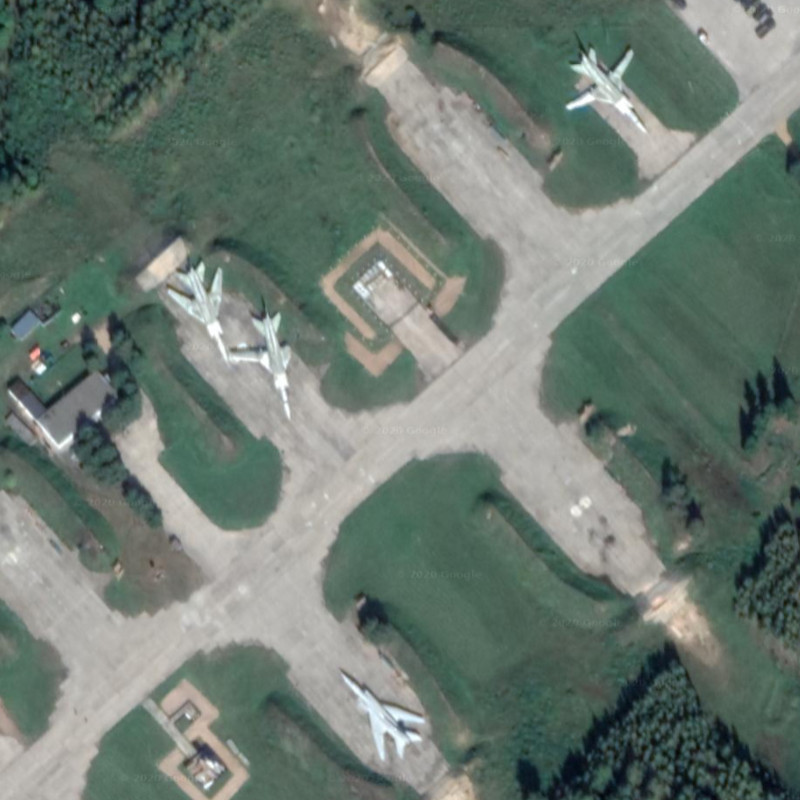A12: (327, 656, 443, 766), (545, 30, 659, 136), (162, 254, 246, 363), (242, 300, 313, 422)
